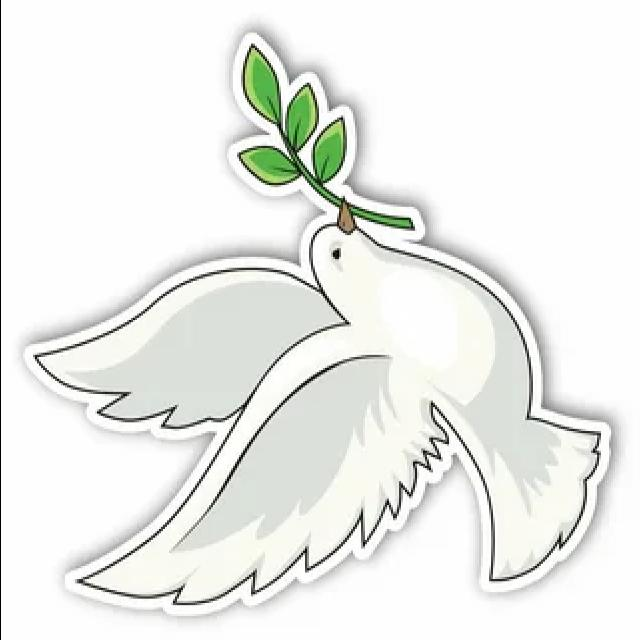pigeon: (21, 208, 620, 612)
